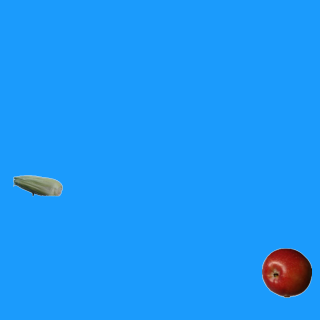Apple Braeburn: (261, 247, 311, 297)
Corn Husk: (12, 160, 62, 210)
